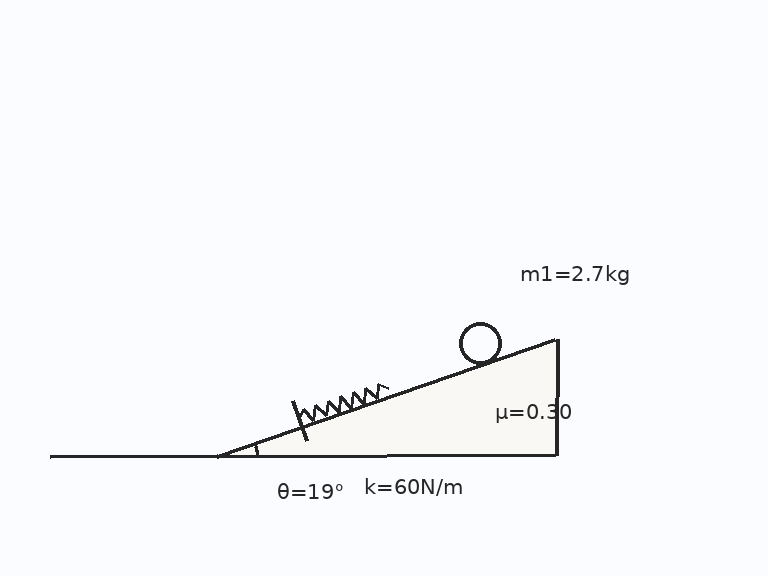ball: (457, 320, 503, 366)
ramp: (215, 337, 558, 458)
spring: (297, 381, 389, 423)
